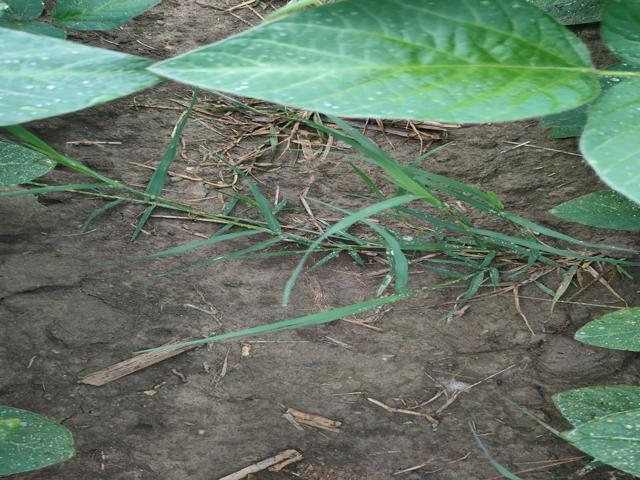bad weed: (27, 92, 631, 308)
